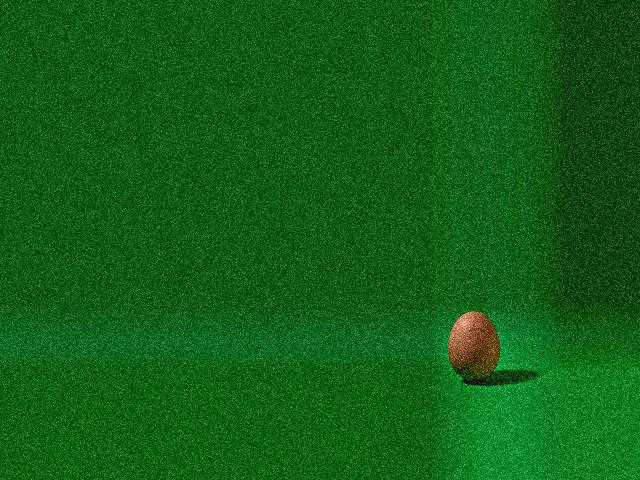egg: (448, 312, 500, 381)
